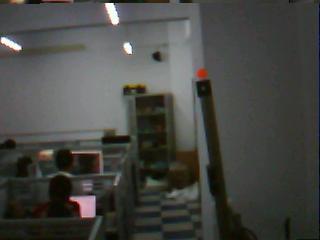oball: (197, 67, 208, 78)
